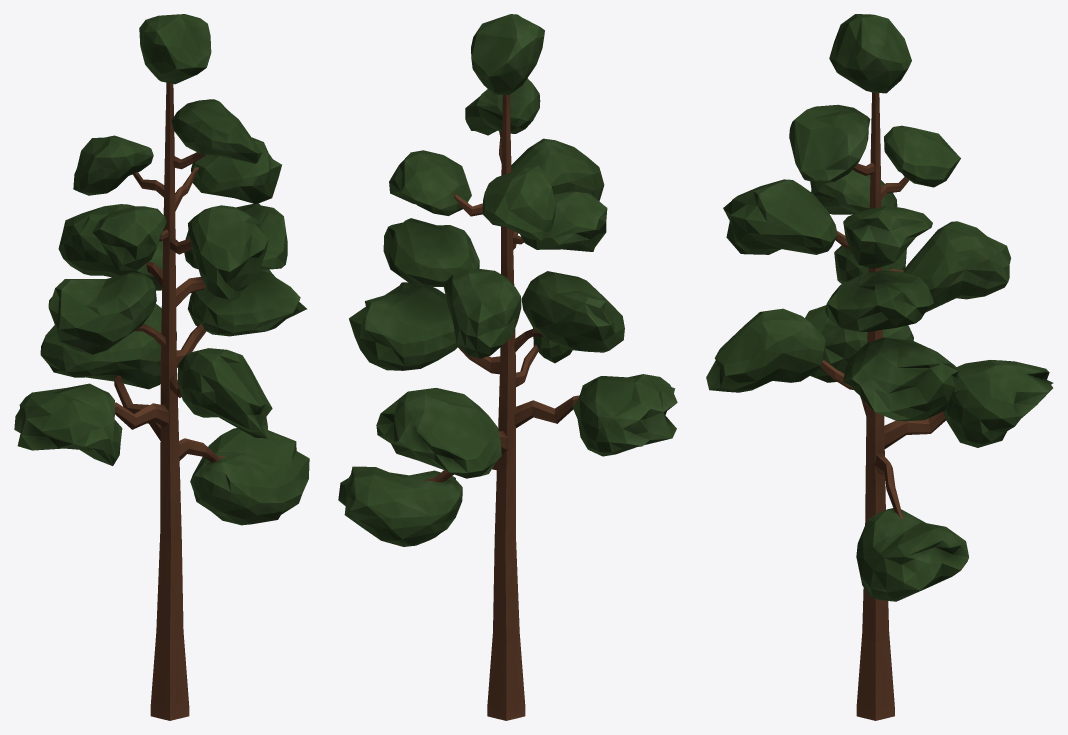
The model's file is bubinga.glb.
3 views of the same model, side by side, from view 1: azimuth 30°, elevation 25°; view 2: azimuth 150°, elevation 25°; view 3: azimuth 270°, elevation 25° (orthographic).
Visible parts, largest first — view 1: node-0; view 2: node-0; view 3: node-0.
Part boxes in pixels (x1=…): node-0: x1=14, y1=14, x2=309, y2=720; node-0: x1=338, y1=14, x2=677, y2=720; node-0: x1=706, y1=14, x2=1053, y2=720.
Size of the model in its own units: 5.26 by 11.21 by 5.09.
Materials: 1 (1 with a texture image).
